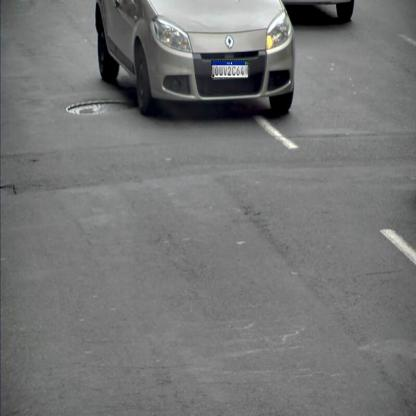PlacaM: (211, 60, 249, 78)
